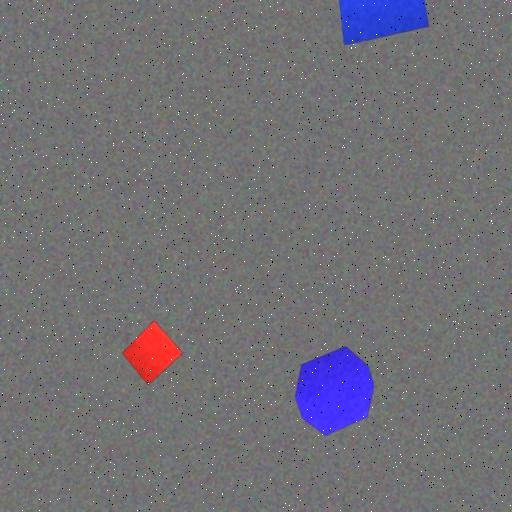BLUE_SQUARE: (332, 0, 429, 46)
RED_SQUARE: (121, 320, 184, 386)
